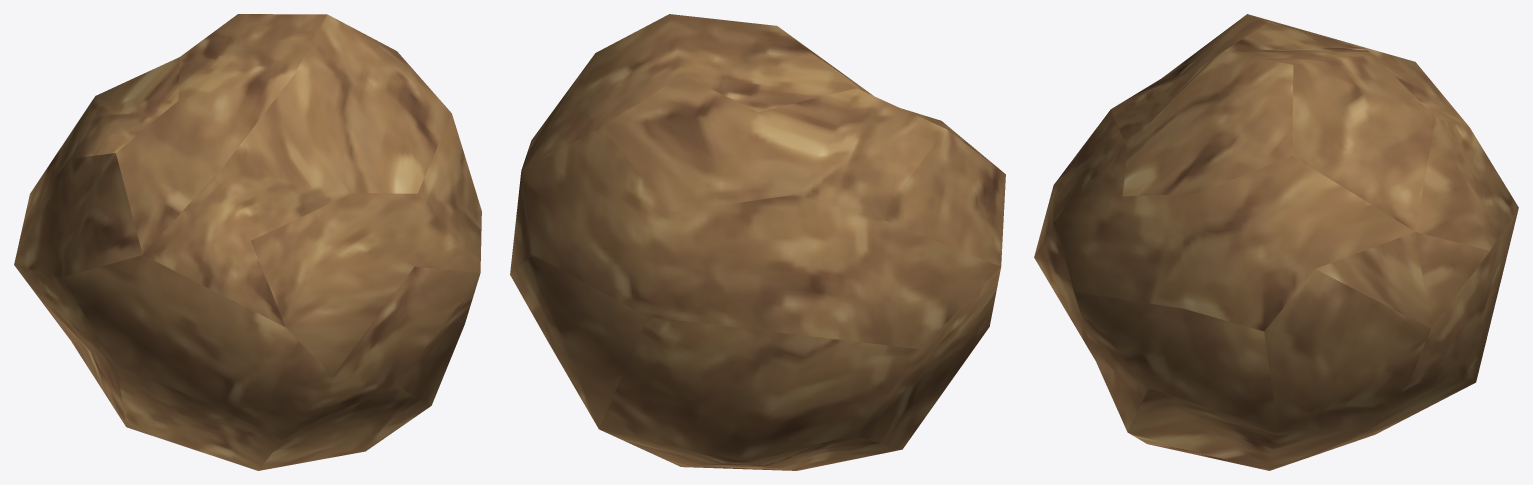
The model's file is Rock_s01.fbx.
3 views of the same model, side by side, from view 1: azimuth 30°, elevation 25°; view 2: azimuth 150°, elevation 25°; view 3: azimuth 270°, elevation 25° (orthographic). The views are drawn at different scales.
Visible parts, largest first — view 1: Rock_s01; view 2: Rock_s01; view 3: Rock_s01.
Part boxes in pixels (x1,y1,x2,y2): Rock_s01: (14, 14, 481, 470); Rock_s01: (510, 14, 1005, 470); Rock_s01: (1034, 14, 1518, 470).
Size of the model in its own units: 1.03 by 0.9003 by 1.
